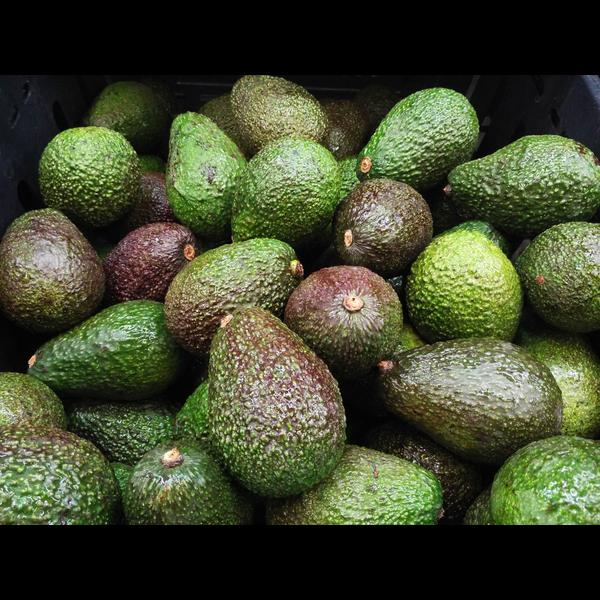almost: (378, 338, 562, 460), (3, 208, 107, 329), (285, 266, 403, 371), (333, 178, 432, 278)
ripe: (107, 222, 201, 302)
unripe: (208, 306, 346, 499), (163, 238, 304, 355), (27, 300, 188, 401), (444, 134, 600, 237), (260, 444, 444, 524), (406, 220, 522, 341), (356, 87, 480, 190), (1, 427, 121, 526), (231, 137, 341, 244), (164, 111, 249, 239), (122, 441, 251, 525), (38, 126, 141, 230), (516, 221, 600, 334), (66, 400, 183, 469), (230, 75, 328, 154)
